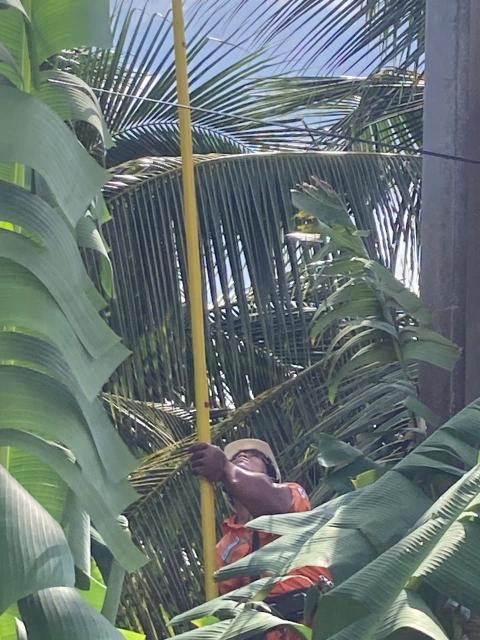harness: (193, 573, 362, 624)
helmet: (207, 428, 304, 485)
